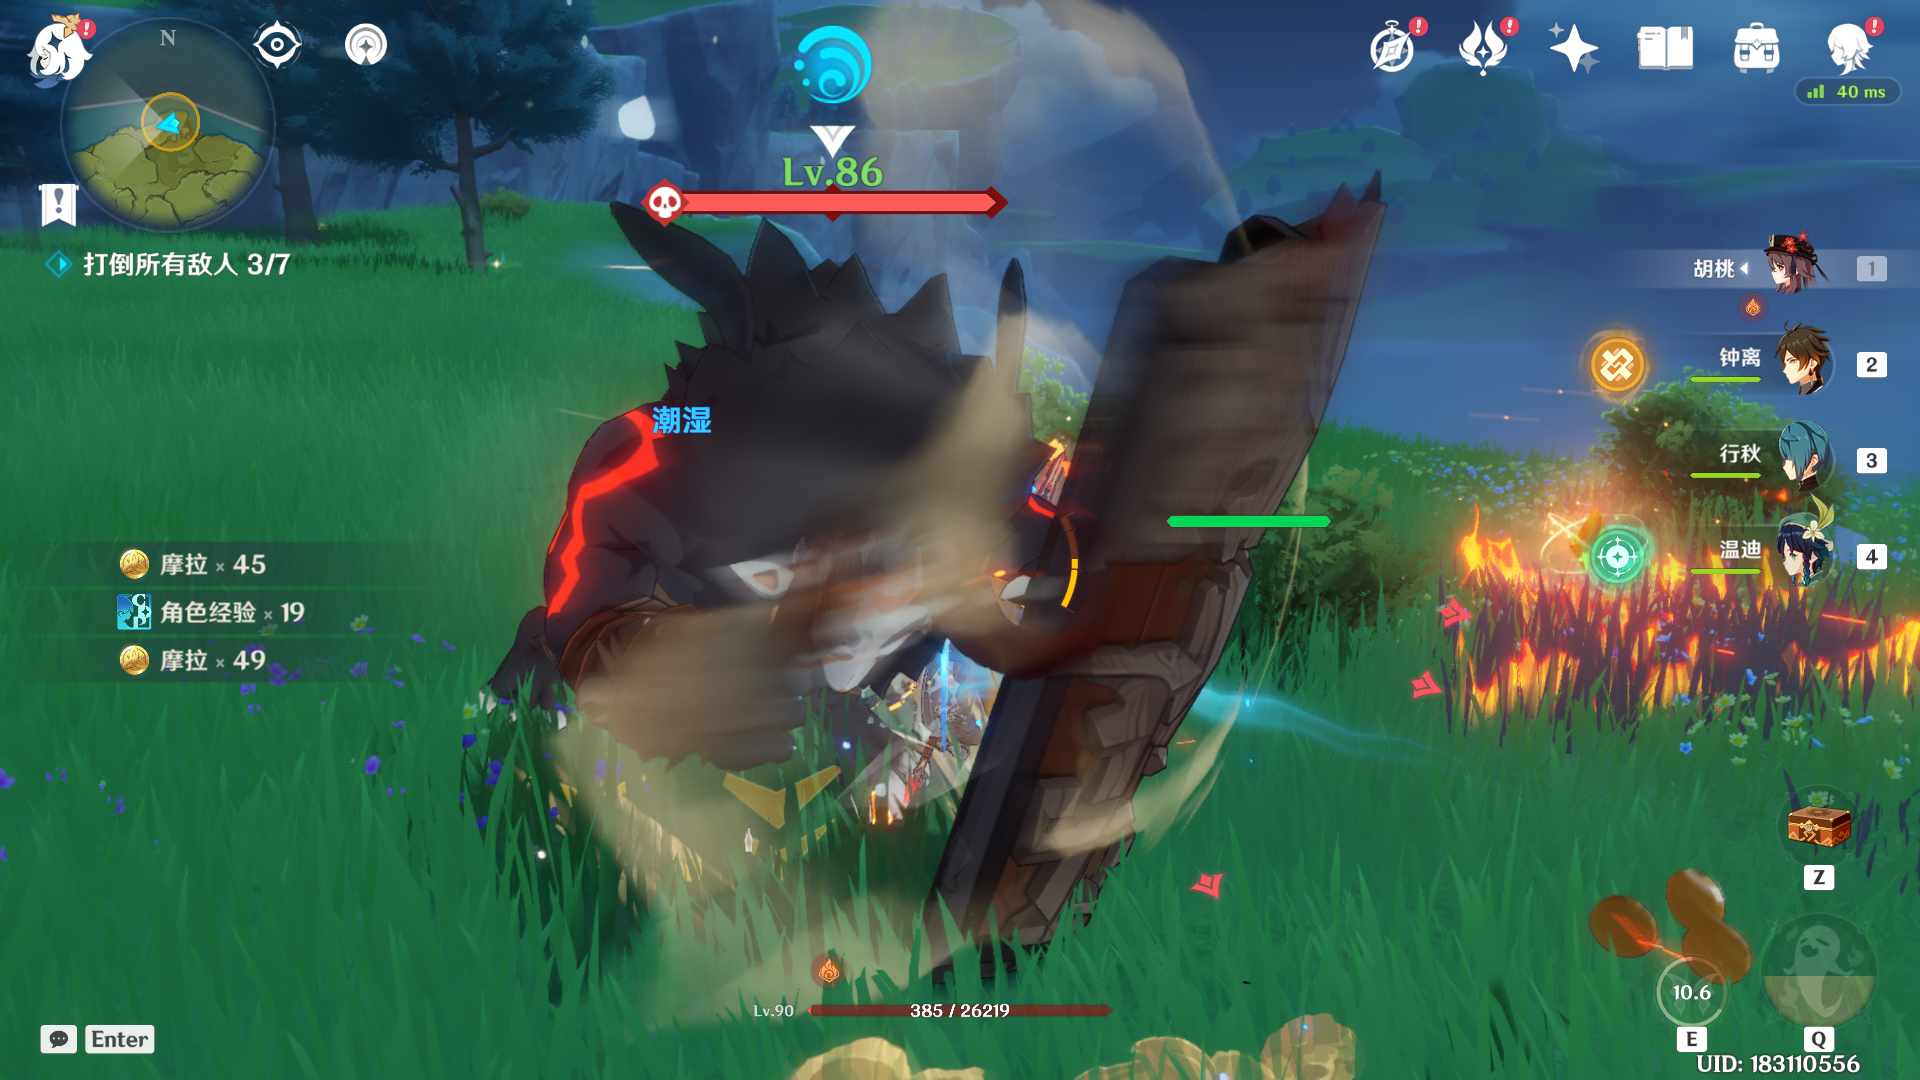bighili: (444, 102, 1331, 1080)
